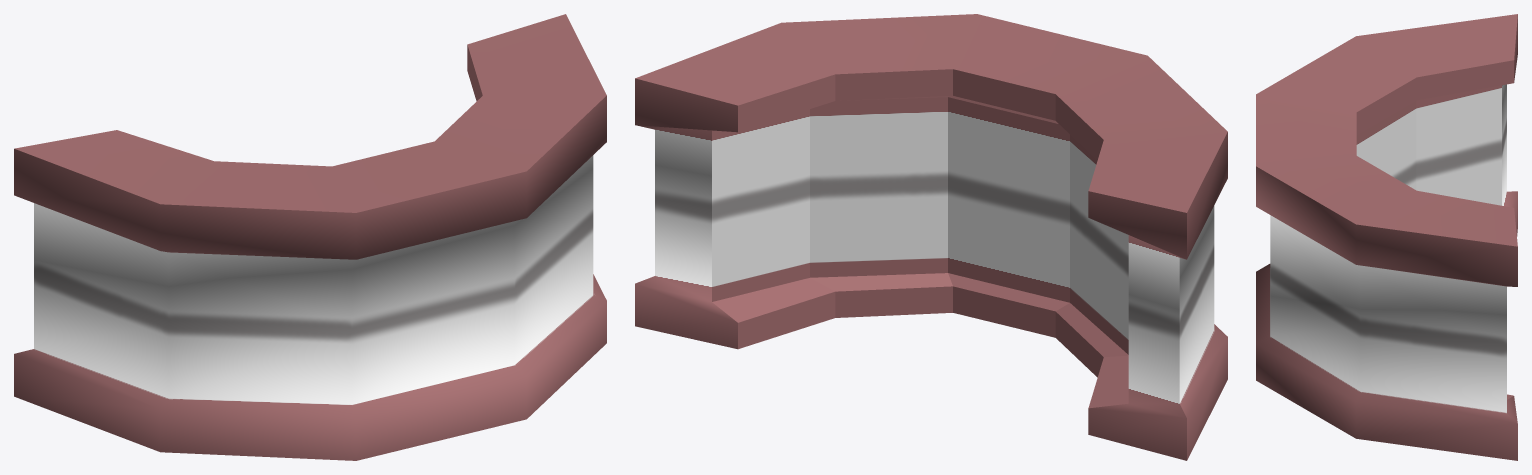
File: faketeeth.fbx
The picture shows the model from 3 angles, left to right: view 1: azimuth 30°, elevation 25°; view 2: azimuth 150°, elevation 25°; view 3: azimuth 270°, elevation 25°; orthographic projection. The views are drawn at different scales.
Parts seen in each view (by area): view 1: Cylinder011; view 2: Cylinder011; view 3: Cylinder011.
Part boxes in pixels (bbox=[...]): Cylinder011: bbox=[14, 14, 606, 460]; Cylinder011: bbox=[635, 14, 1227, 460]; Cylinder011: bbox=[1256, 14, 1517, 460].
Bounding box in the file's own units: 0.7374 × 0.3507 × 0.3166.
